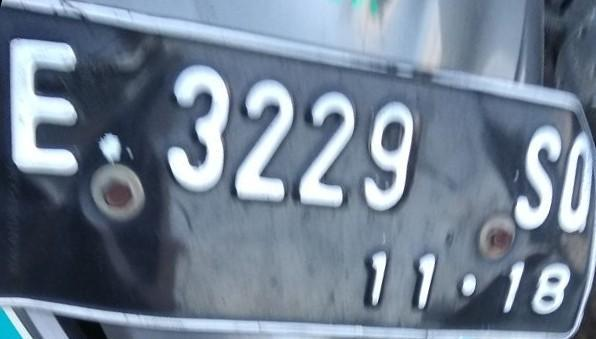clone-license-plate: (0, 0, 590, 338)
